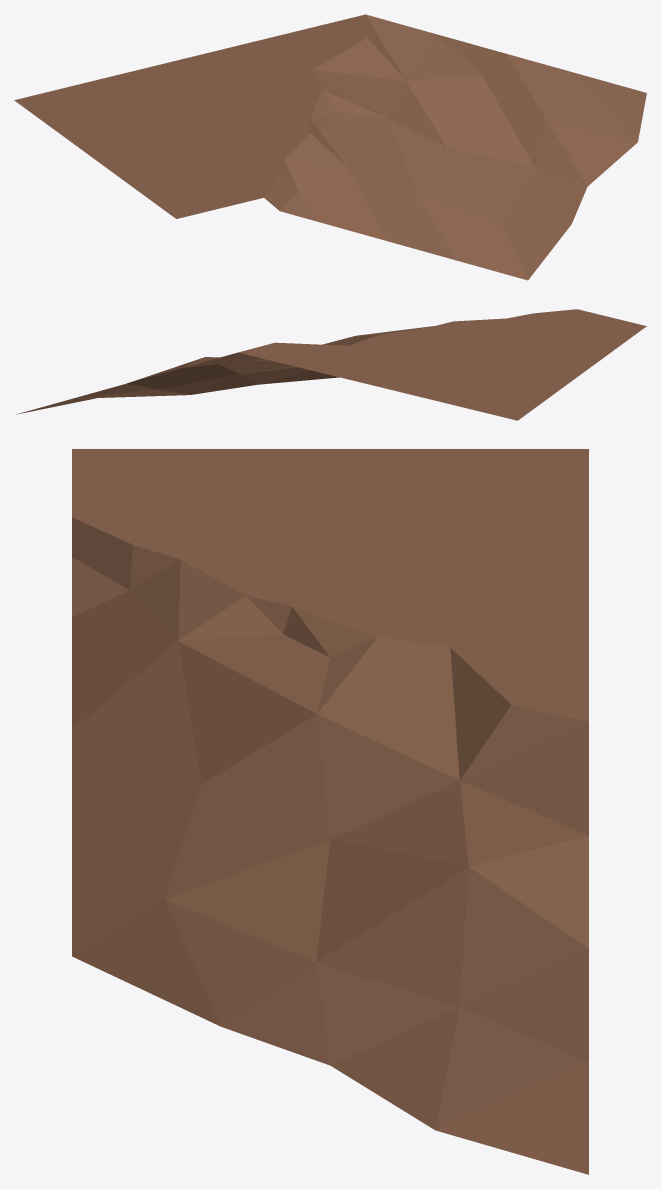
File: terrain_2.FBX
The picture shows the model from 3 angles, top to bottom: view 1: azimuth 30°, elevation 25°; view 2: azimuth 150°, elevation 25°; view 3: azimuth 270°, elevation 25°; orthographic projection. The views are drawn at different scales.
Visible parts, largest first — view 1: terrain_2; view 2: terrain_2; view 3: terrain_2.
Part boxes in pixels (<box>): terrain_2: <box>14,14,646,280</box>; terrain_2: <box>16,309,646,420</box>; terrain_2: <box>72,449,588,1174</box>.
Size of the model in its own units: 698 by 155 by 310.
